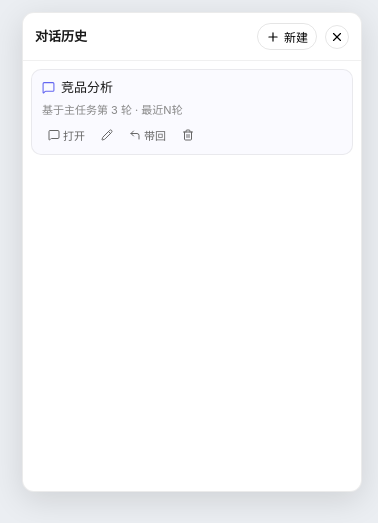
Test: SideSessionPanel › 点击列表项在面板内进入对话模式，不切换主聊天（不发 open-session）
The width and height of the screenshot is (378, 523).
Click the element with class "ssp-item-head" at x=78, y=87, box [42,79,113,95]
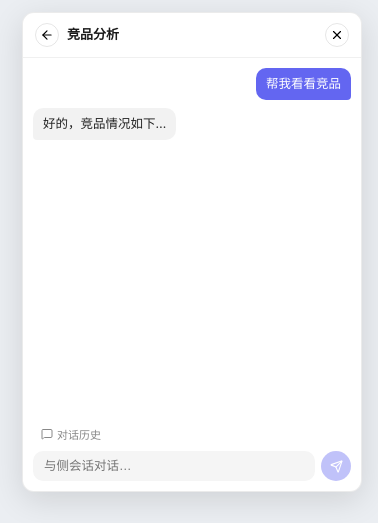
Check: the text "帮我看看竞品" is shown, box [256,68,351,100]
Check: the text "好的，竞品情况如下…" is shown, box [33,108,176,140]
Check: the field with class "ssp-chat-input" is shown, box [33,451,315,481]
